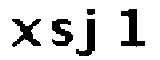1: (117, 6, 149, 51)
j: (76, 6, 105, 59)
s: (46, 19, 77, 47)
x: (5, 17, 45, 48)
